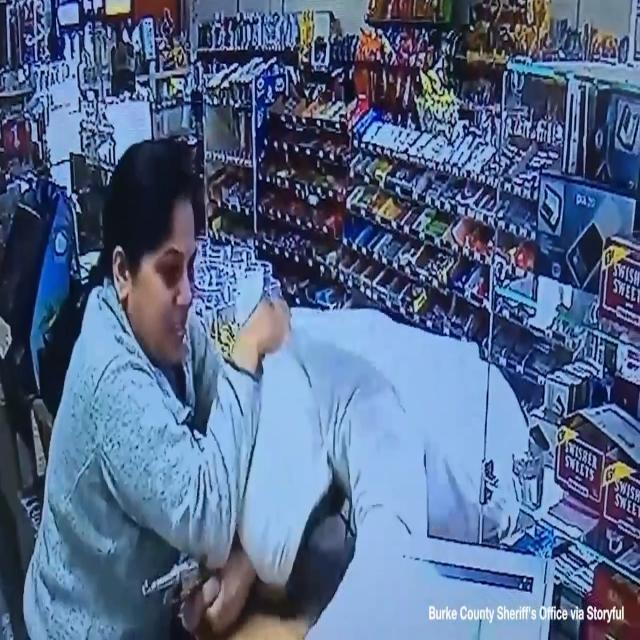fight: (69, 143, 476, 627)
